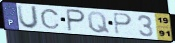3: (137, 14, 154, 38)
C: (40, 8, 62, 30)
P: (66, 8, 87, 33), (112, 12, 134, 35)
Q: (87, 11, 112, 35)
U: (16, 4, 40, 31)
